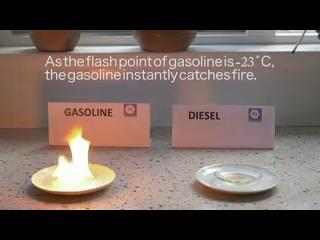Fire: (50, 130, 89, 192)
